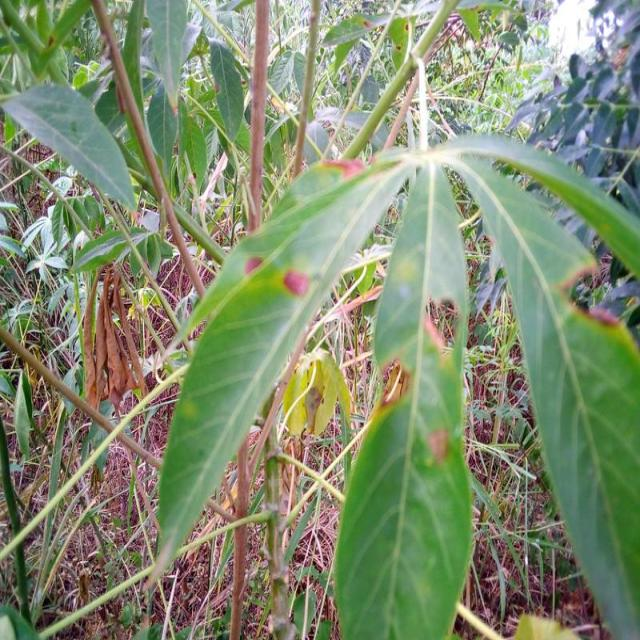cassava leaf: (153, 148, 413, 579), (436, 132, 639, 637), (332, 317, 473, 638), (1, 80, 137, 213)
